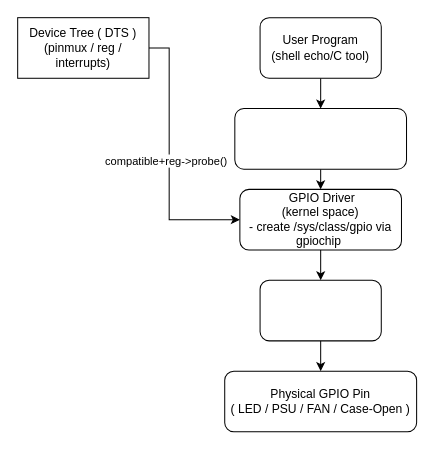
Image size: 434x449. Some labels were removed from this diagram. Each missing label, with the box of its shape:
GPIO Registers ( SoC / CPLD ): (259, 279, 381, 341)
Sysfs (/sys/class/gpio): (234, 108, 407, 169)
